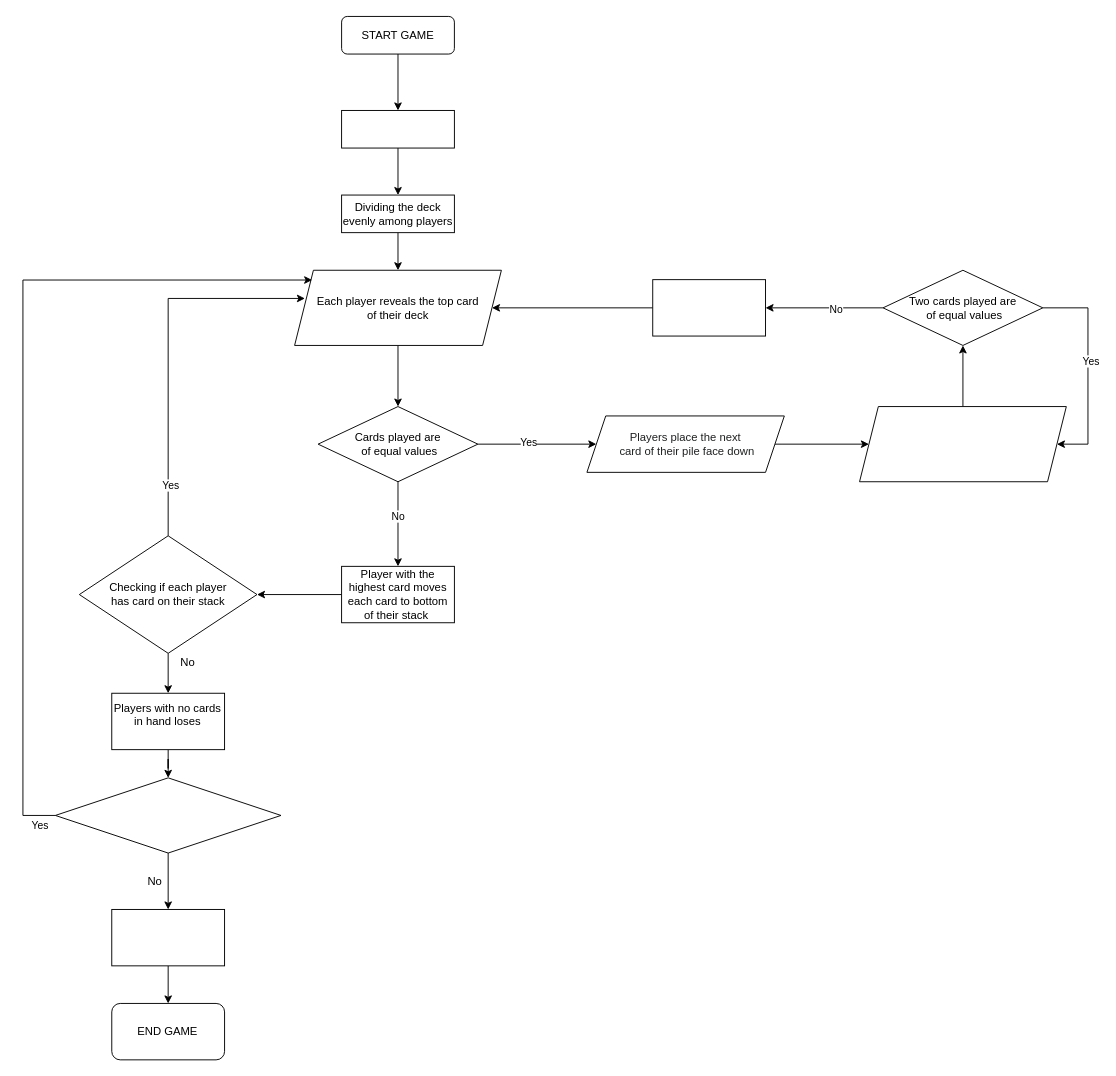
Some shapes in this 1116 by 1076 pixel diagram are drawn without their labels. Each missing label, with the centre of its shape:
"Checking if there is more players than one" goes at point 167,815.
"Each player reveals another card of their deck" goes at point 962,444.
"Player with cards in hand win" goes at point 168,937.
"Player with higher face-up card moves each cards to bottom of their stack" goes at point 709,307.
"Shuffling the deck" goes at point 397,129.
